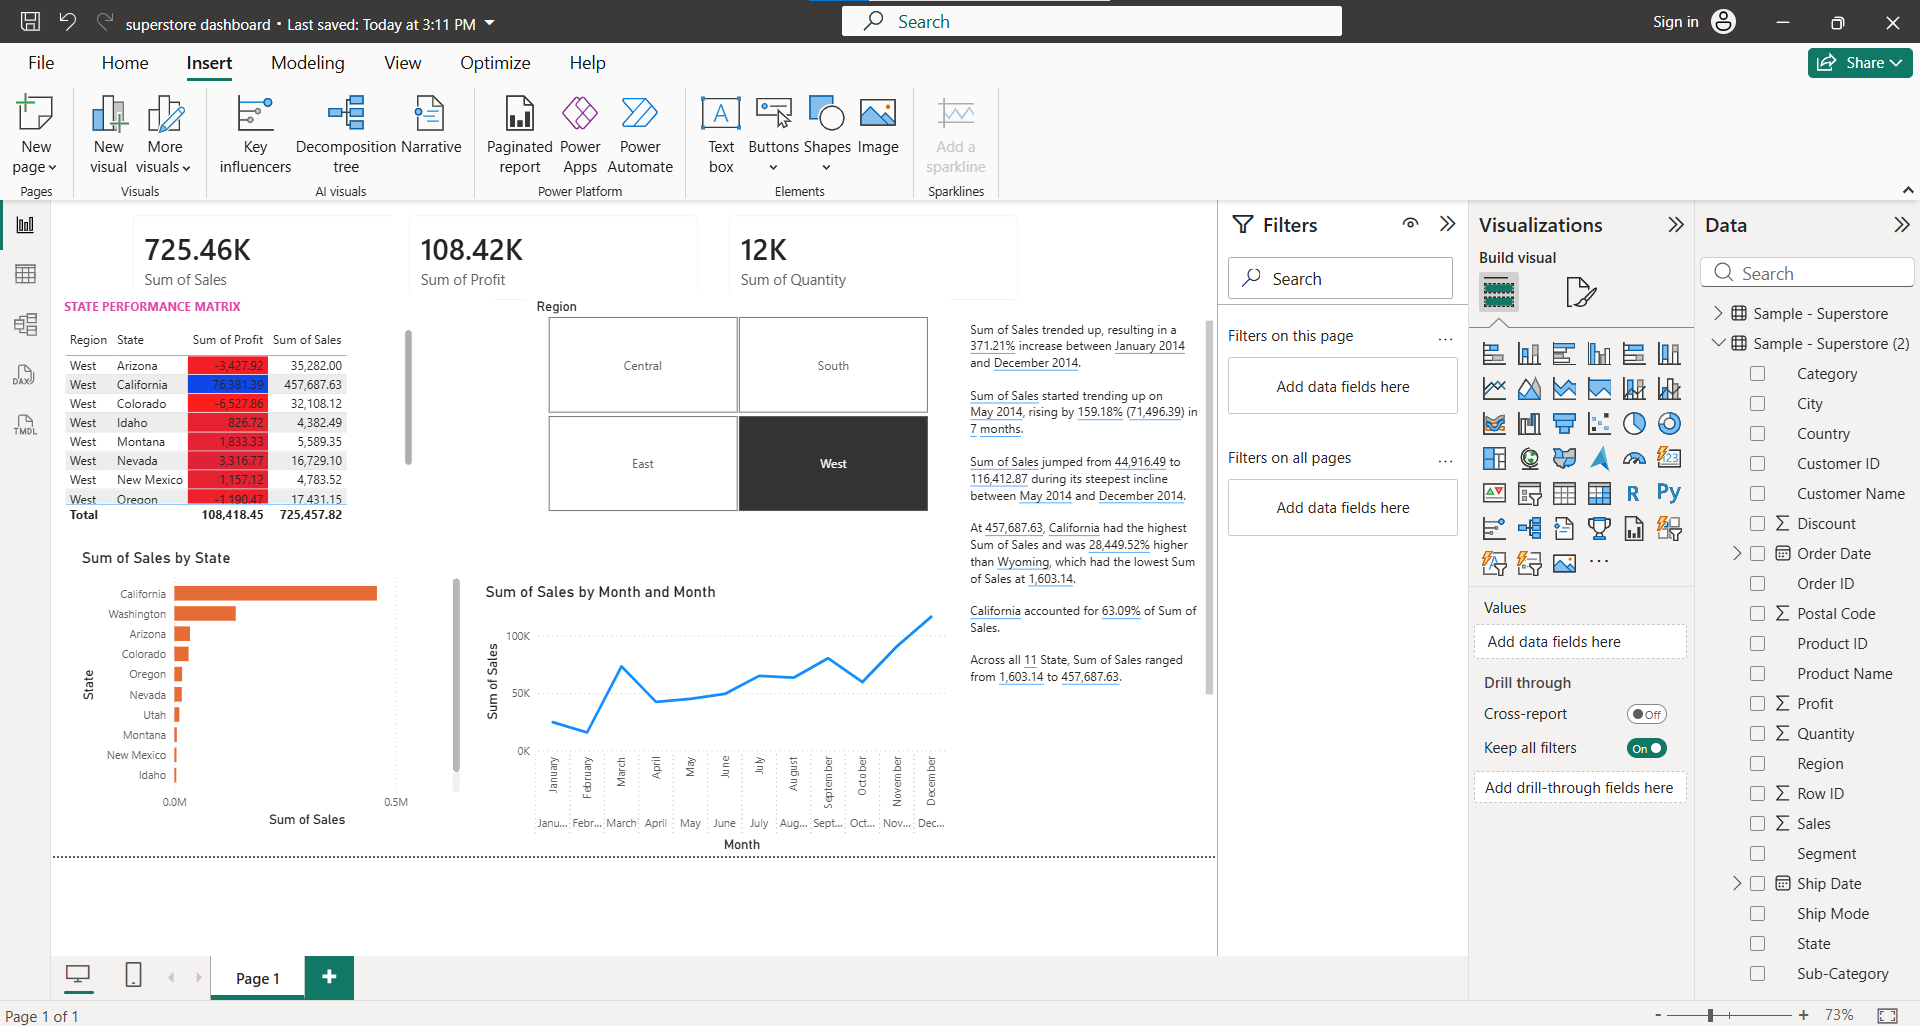

The page's visual inventory and layout, read from the dashboard file:
{"tool":"powerbi","page":{"name":"Page 1","canvas":[1280,720],"ordinal":0},"visuals":[{"type":"cardVisual","fields":{"Data":["Sum(Sample - Superstore (2).Sales)"]},"box":[72.7,0,351.3,127.6],"z":0},{"type":"cardVisual","fields":{"Data":["Sum(Sample - Superstore (2).Profit)"]},"box":[376,0,351.3,127.6],"z":1000},{"type":"cardVisual","fields":{"Data":["Sum(Sample - Superstore (2).Quantity)"]},"box":[727.3,0,351.3,127.6],"z":2000},{"type":"tableEx","fields":{"Values":["Sample - Superstore (2).Region","Sample - Superstore (2).State","Sum(Sample - Superstore (2).Profit)","Sum(Sample - Superstore (2).Sales)"]},"box":[9.6,137.2,392.5,222.3],"z":3000},{"type":"lineChart","fields":{"Category":["Sample - Superstore (2).Order Date.Variation.Date Hierarchy.Year","Sample - Superstore (2).Order Date.Variation.Date Hierarchy.Quarter","Sample - Superstore (2).Order Date.Variation.Date Hierarchy.Month","Sample - Superstore (2).Order Date.Variation.Date Hierarchy.Day","Sample - Superstore (2).Order Date.Variation.Date Hierarchy.Year","Sample - Superstore (2).Order Date.Variation.Date Hierarchy.Quarter","Sample - Superstore (2).Order Date.Variation.Date Hierarchy.Month"],"Y":["Sum(Sample - Superstore (2).Sales)"]},"box":[472,419.9,514.6,300.5],"z":4000},{"type":"textbox","box":[9.6,102.9,477.5,34.3],"z":5000},{"type":"clusteredBarChart","fields":{"Category":["Sample - Superstore (2).State"],"Y":["Sum(Sample - Superstore (2).Sales)"]},"box":[28.8,382.8,425.4,310.1],"z":6000},{"type":"slicer","fields":{"Values":["Sample - Superstore (2).Region"]},"box":[520.1,102.9,466.6,245.6],"z":6001},{"type":"textbox","box":[1004.5,127.6,275.8,432.2],"z":6002}]}

Visuals, with their boxes on the page's 1280x720 design canvas (x1, y1, x2, y2). These are canvas units, not pixel positions in the 1920x1026 screenshot, which may show the page scaled, cropped or inside an application window:
cardVisual - Sum(Sample - Superstore (2).Sales): select_region(73, 0, 424, 128)
cardVisual - Sum(Sample - Superstore (2).Profit): select_region(376, 0, 727, 128)
cardVisual - Sum(Sample - Superstore (2).Quantity): select_region(727, 0, 1079, 128)
tableEx - Sample - Superstore (2).Region x Sample - Superstore (2).State: select_region(10, 137, 402, 360)
lineChart - Sample - Superstore (2).Order Date.Variation.Date Hierarchy.Year x Sample - Superstore (2).Order Date.Variation.Date Hierarchy.Quarter: select_region(472, 420, 987, 720)
textbox: select_region(10, 103, 487, 137)
clusteredBarChart - Sample - Superstore (2).State x Sum(Sample - Superstore (2).Sales): select_region(29, 383, 454, 693)
slicer - Sample - Superstore (2).Region: select_region(520, 103, 987, 348)
textbox: select_region(1004, 128, 1280, 560)
